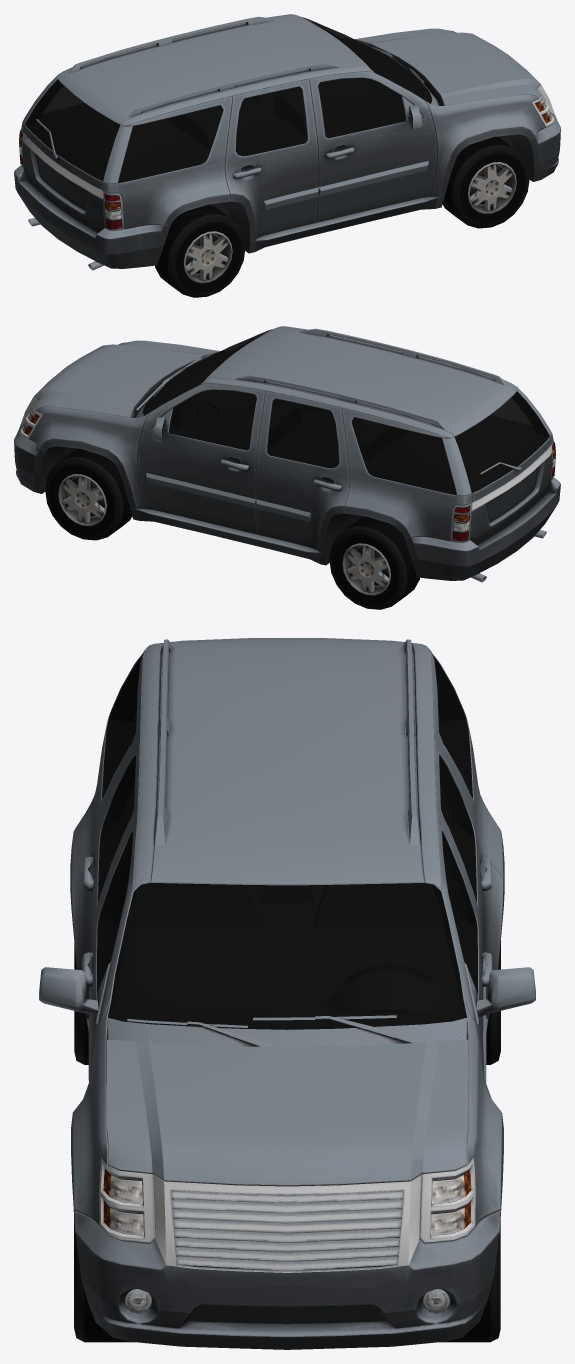
File: suv_gray.glb
3 renders of one model, top to bottom at view 1: azimuth 30°, elevation 25°; view 2: azimuth 150°, elevation 25°; view 3: azimuth 270°, elevation 25°, orthographic. The views are drawn at different scales.
Visible parts, largest first — view 1: SUV Body; view 2: SUV Body; view 3: SUV Body.
Boxes of the visible parts, <box> form: SUV Body: <box>14,14,560,297</box>; SUV Body: <box>14,326,560,609</box>; SUV Body: <box>39,638,535,1349</box>.
Size of the model in its own units: 4.6 by 1.73 by 2.06.
Materials: 4 (3 with a texture image).
